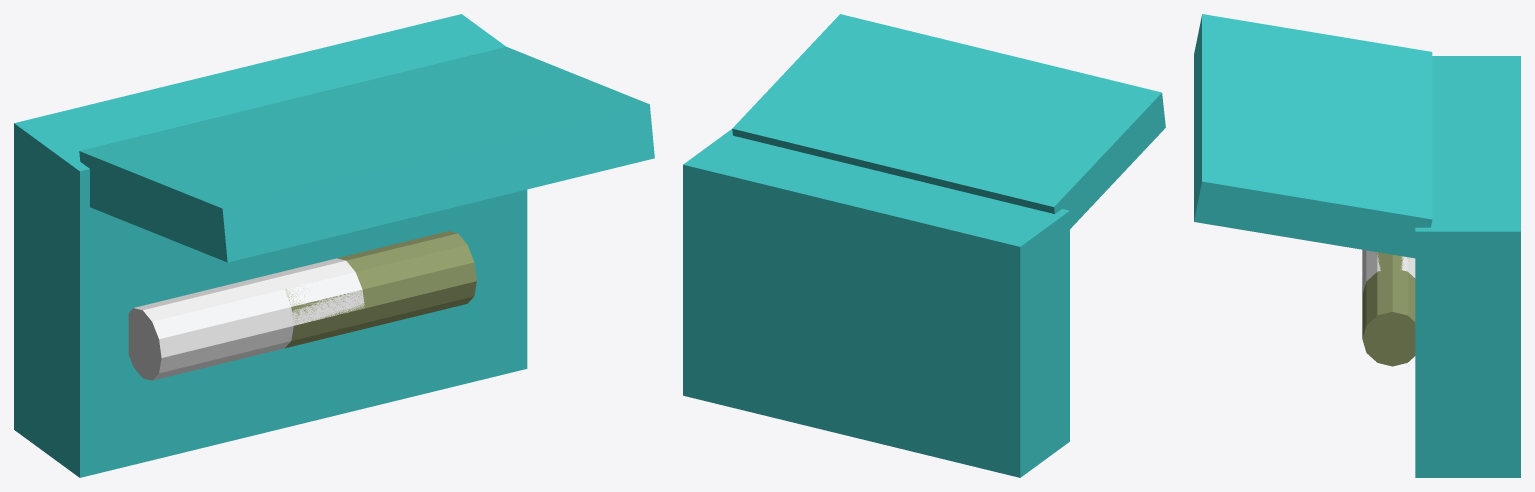
The model's file is 28_med_case_green_open.glb.
3 renders of one model, left to right at view 1: azimuth 30°, elevation 25°; view 2: azimuth 150°, elevation 25°; view 3: azimuth 270°, elevation 25°, orthographic. The views are drawn at different scales.
Parts seen in each view (by area): view 1: part_1, part_2, part_4, part_5; view 2: part_1, part_2; view 3: part_2, part_1, part_5, part_4.
Boxes of the visible parts, bbox=[...] form: part_1: bbox=[14, 14, 527, 477]; part_2: bbox=[79, 47, 654, 262]; part_4: bbox=[128, 258, 364, 380]; part_5: bbox=[285, 231, 476, 348]; part_1: bbox=[683, 129, 1069, 477]; part_2: bbox=[732, 14, 1165, 228]; part_2: bbox=[1194, 14, 1432, 258]; part_1: bbox=[1415, 56, 1520, 477]; part_5: bbox=[1362, 252, 1415, 366]; part_4: bbox=[1362, 249, 1415, 292].
Size of the model in its own units: 1.1 by 0.8545 by 0.8657.
